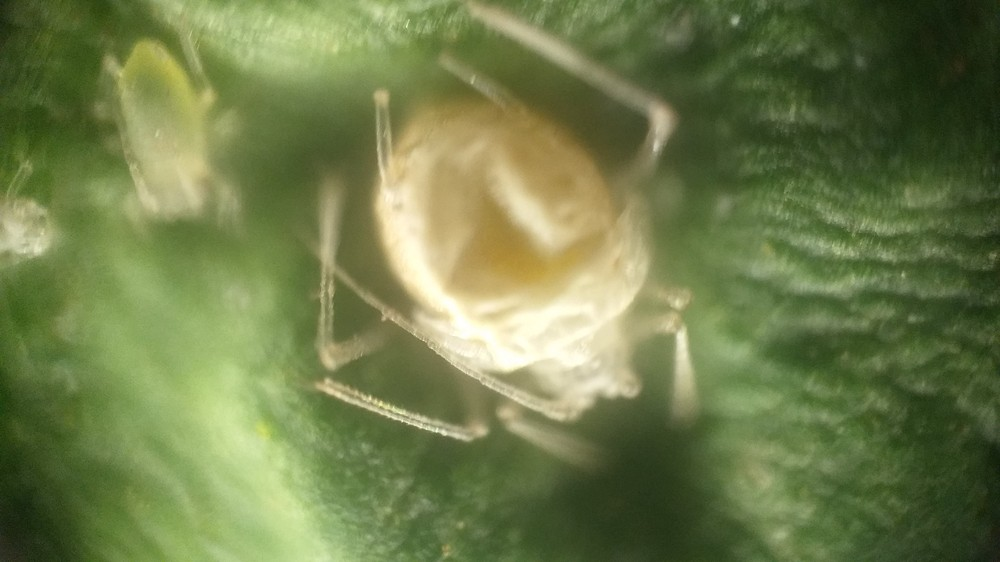Pulgon: (290, 20, 770, 479), (87, 21, 257, 240)
